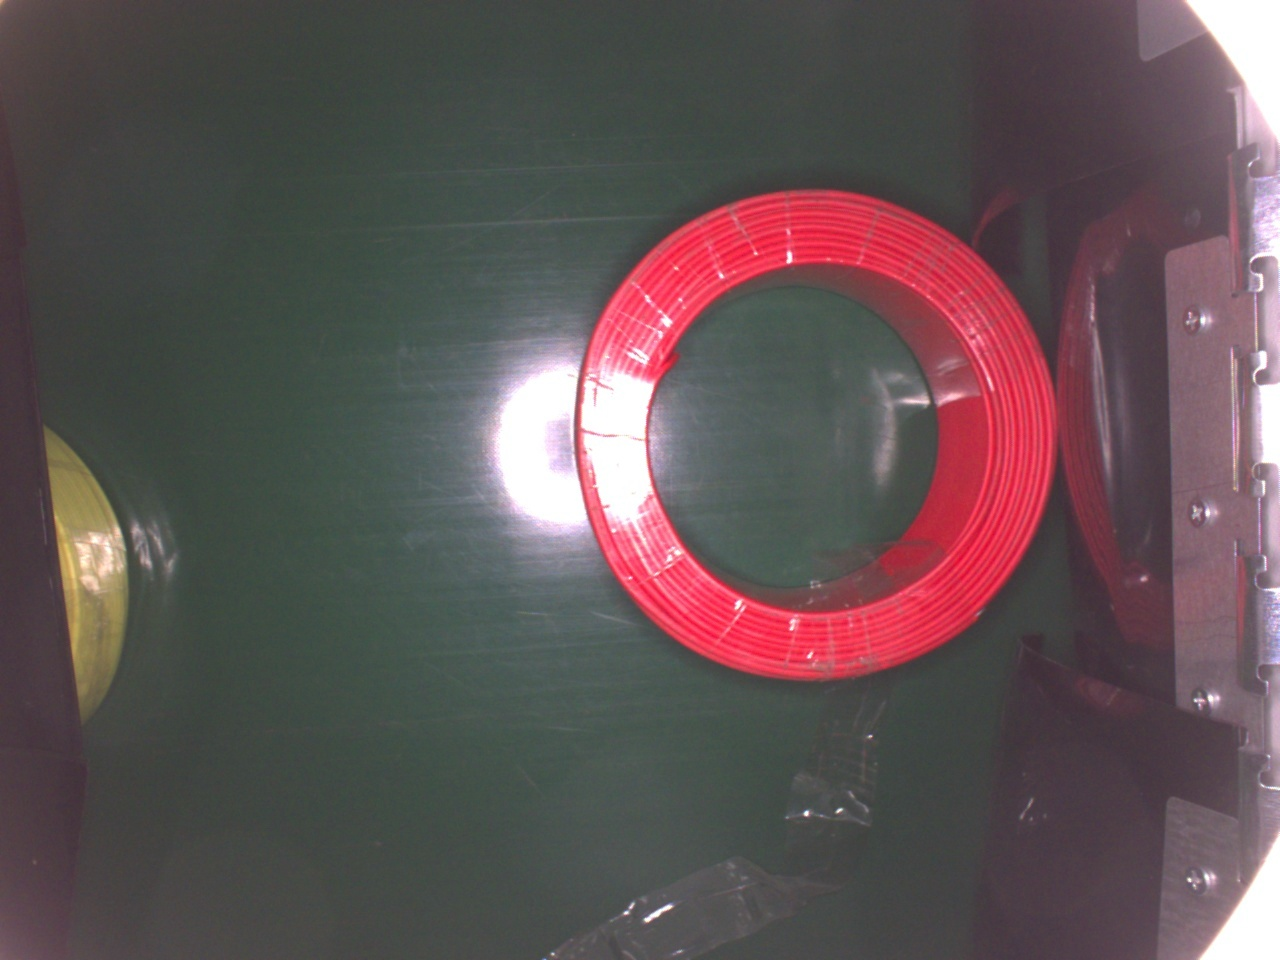red: (571, 185, 1059, 683)
